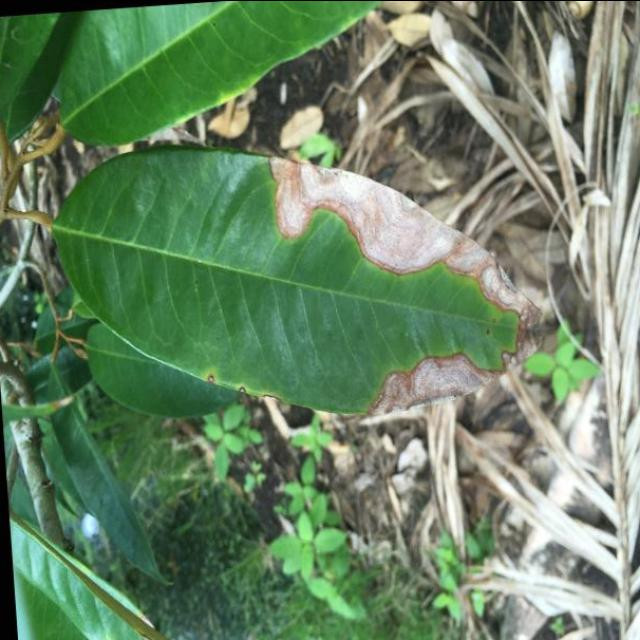Leaf Blight: (37, 112, 577, 450)
